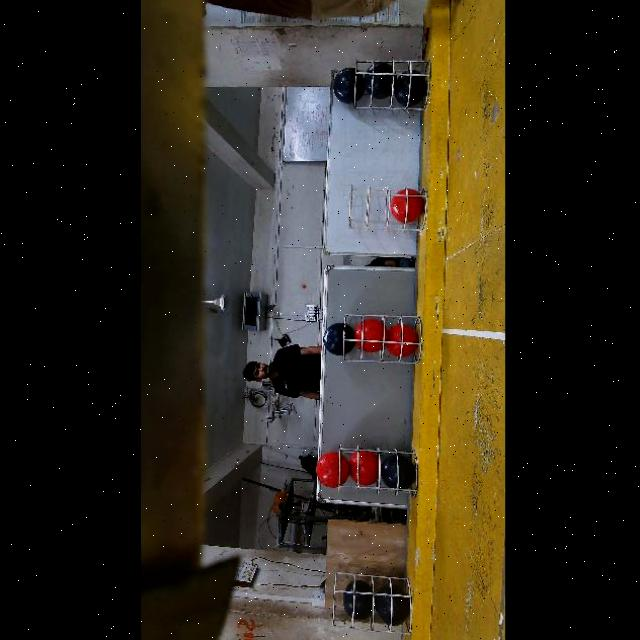P: (373, 583, 409, 625), (392, 69, 426, 108), (342, 580, 373, 621), (379, 455, 415, 489), (333, 66, 365, 104), (363, 61, 393, 99), (322, 323, 354, 356)
R: (352, 318, 387, 353), (316, 452, 349, 488), (389, 190, 424, 222), (385, 324, 417, 357), (348, 451, 379, 485)
S: (330, 569, 412, 633), (348, 55, 430, 109), (343, 316, 423, 368), (332, 449, 412, 499), (348, 184, 426, 232)
